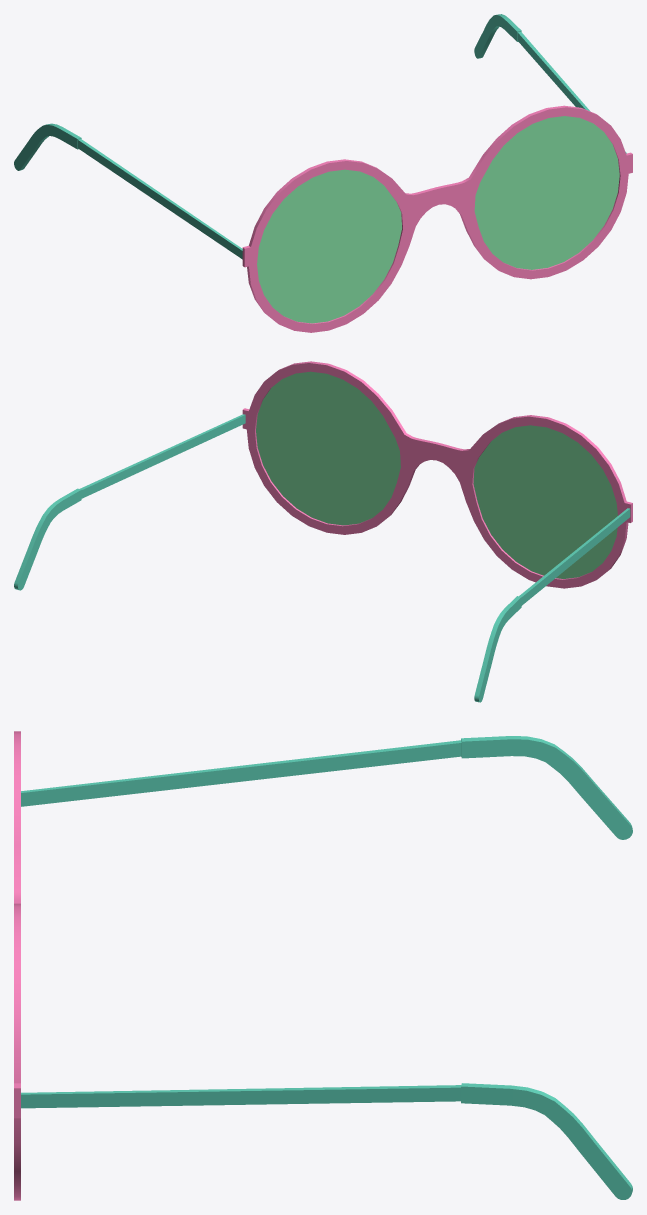
The model's file is Glasses-YchMXfQNU0.glb.
3 renders of one model, top to bottom at view 1: azimuth 30°, elevation 25°; view 2: azimuth 150°, elevation 25°; view 3: azimuth 270°, elevation 25°, orthographic. The views are drawn at different scales.
Parts seen in each view (by area): view 1: Glasses-YchMXfQNU0; view 2: Glasses-YchMXfQNU0; view 3: Glasses-YchMXfQNU0.
Boxes of the visible parts, <box> form: Glasses-YchMXfQNU0: <box>14,14,632,332</box>; Glasses-YchMXfQNU0: <box>14,361,632,702</box>; Glasses-YchMXfQNU0: <box>14,731,632,1200</box>.
Bounding box in the file's own units: 2.15 × 0.7403 × 1.54.
